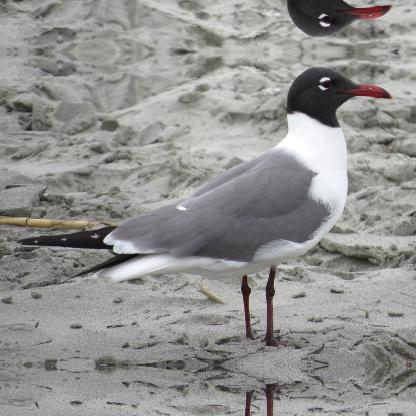Bird: (15, 65, 393, 345)
